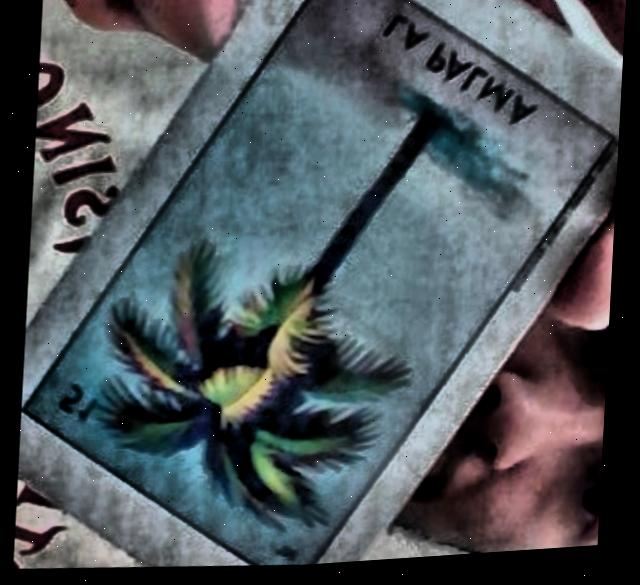La Palma: (24, 0, 606, 569)
